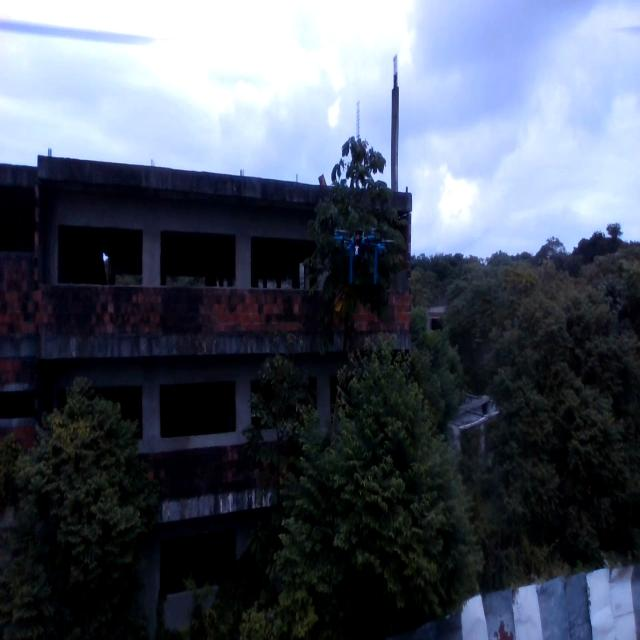-uav-: (325, 209, 400, 293)
